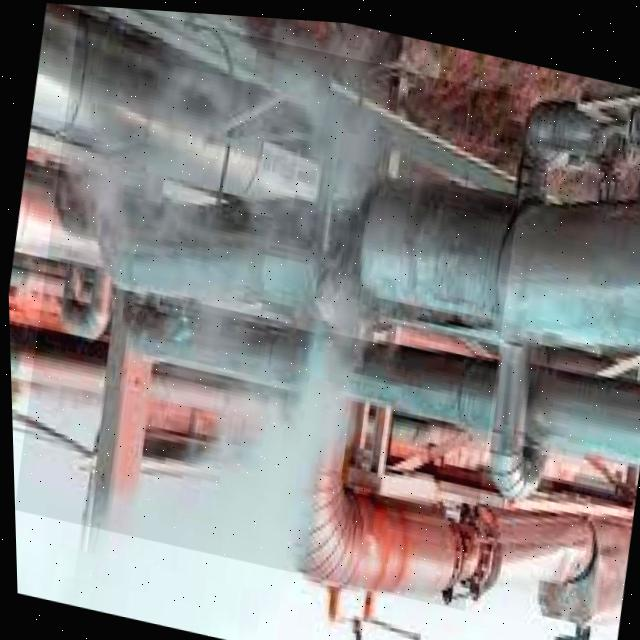corrosion: (204, 121, 494, 477)
